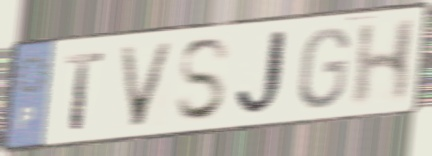G: (295, 24, 353, 112)
H: (348, 15, 421, 111)
J: (233, 26, 295, 121)
S: (173, 35, 234, 126)
T: (63, 49, 106, 133)
V: (116, 40, 178, 131)
